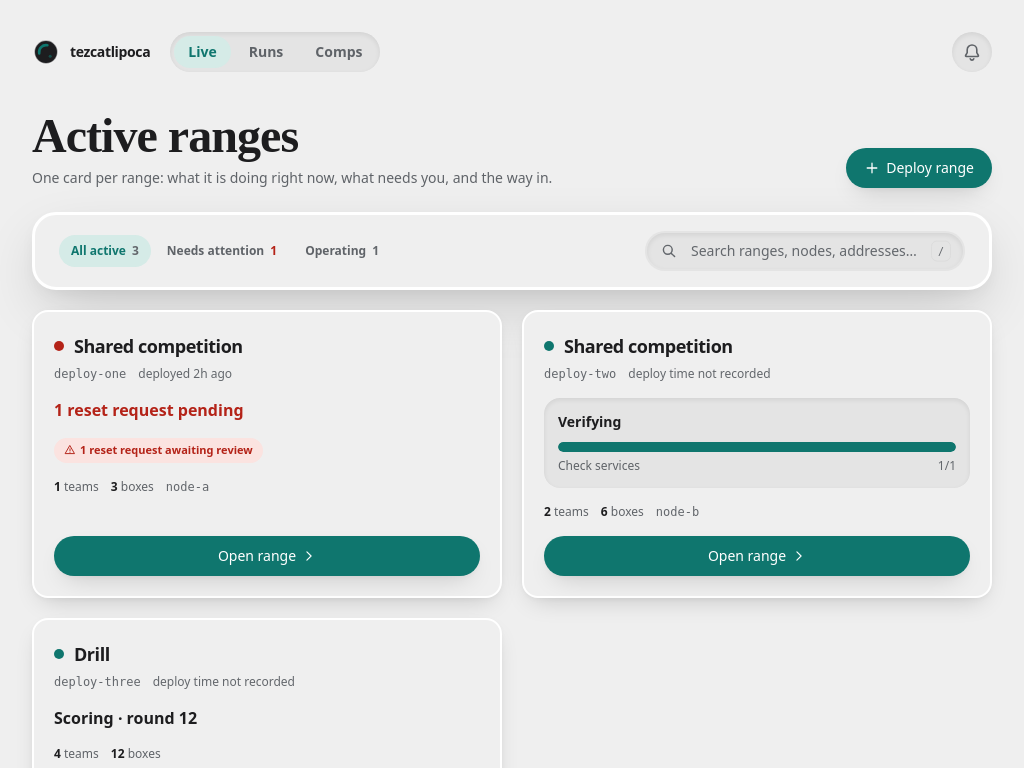
Test: leads each card with its status: requests, live operation progress, then scoring
expect the text "Check services" is shown: met, box [558,458,640,474]
expect the link "Scoring · round 12" is shown: met, box [54,707,197,729]
Click the button "Operating 1". click: (342, 251)
box: [293,235,391,267]
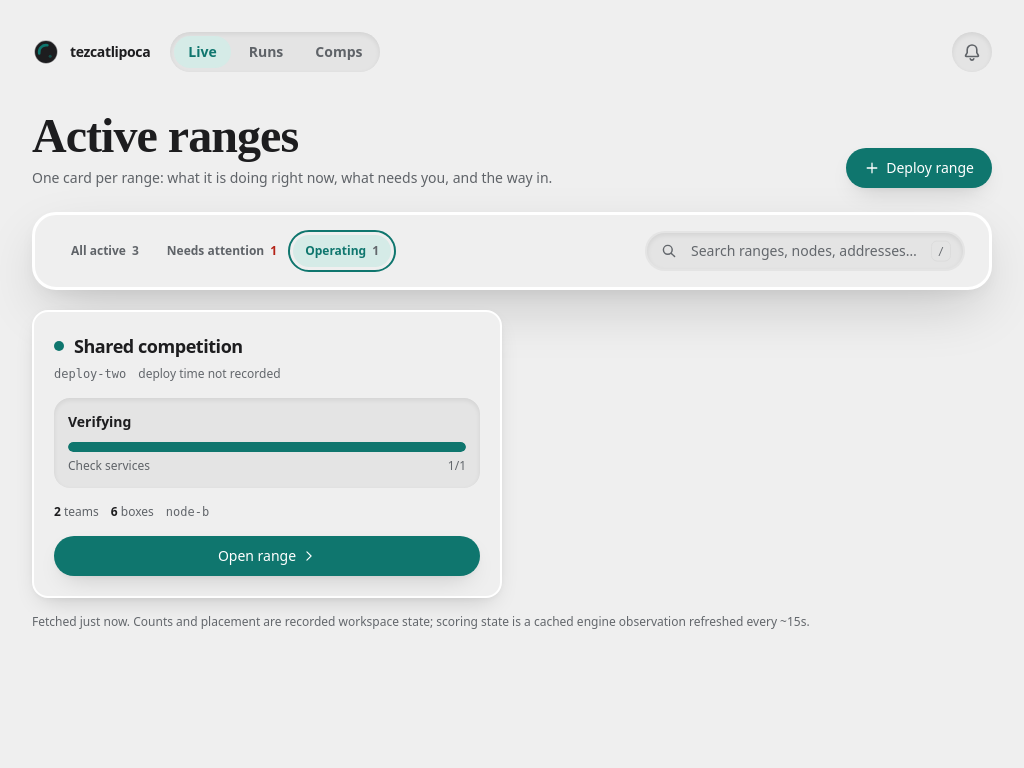
expect the link "Verifying Check services 1/1" is shown: met, box [54,398,480,488]
expect the link "1 reset request pending" is gone: met
